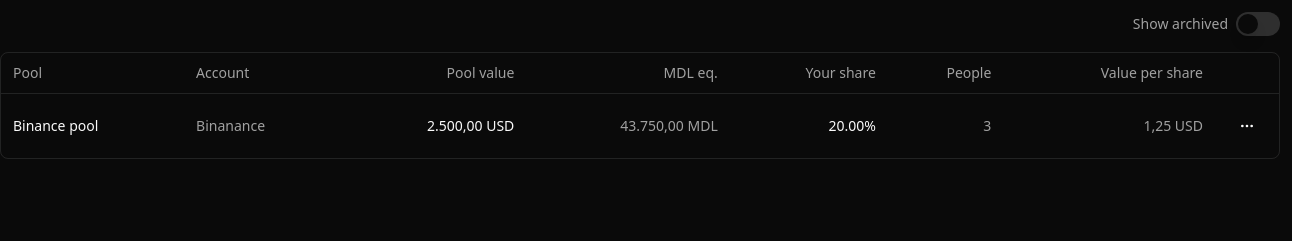
PoolsTable › hides archived pools until the toggle is flipped
The image size is (1292, 241).
Expected: the number of rows with test id "pool-row" is 1, [1,93,1279,158]
Click the switch with test id "show-archived-pools-toggle".
click(1258, 24)  # box [1236,12,1280,36]
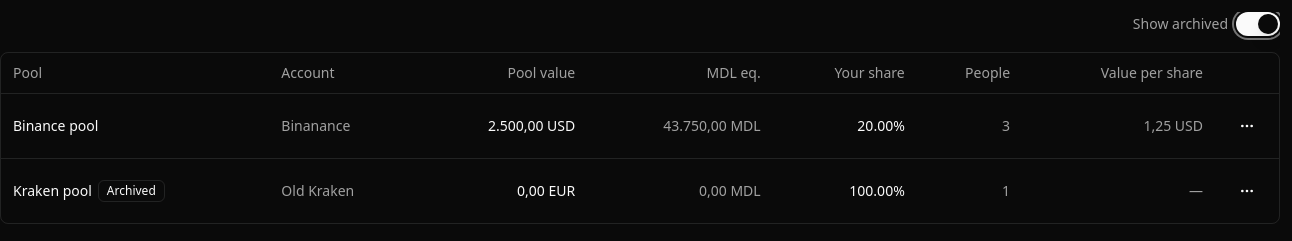
Now the number of rows with test id "pool-row" is 2, box [1,93,1279,158]; [1,158,1279,222]
Now the text "Archived" is shown, box [98,180,165,202]
